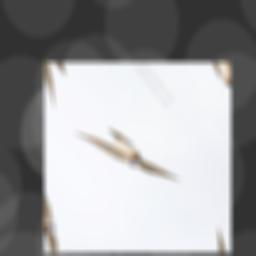Swallow: (72, 98, 181, 215)
